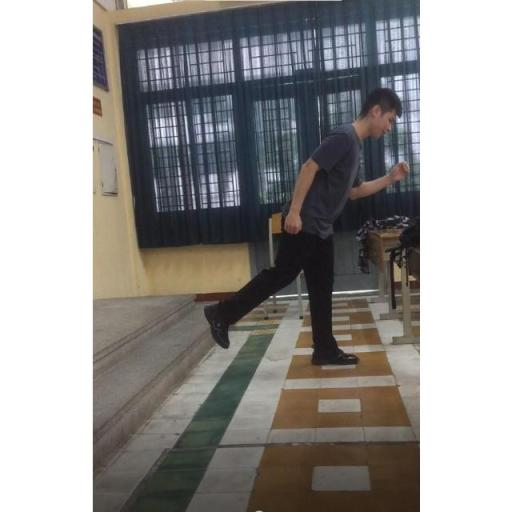Running: (202, 76, 408, 366)
